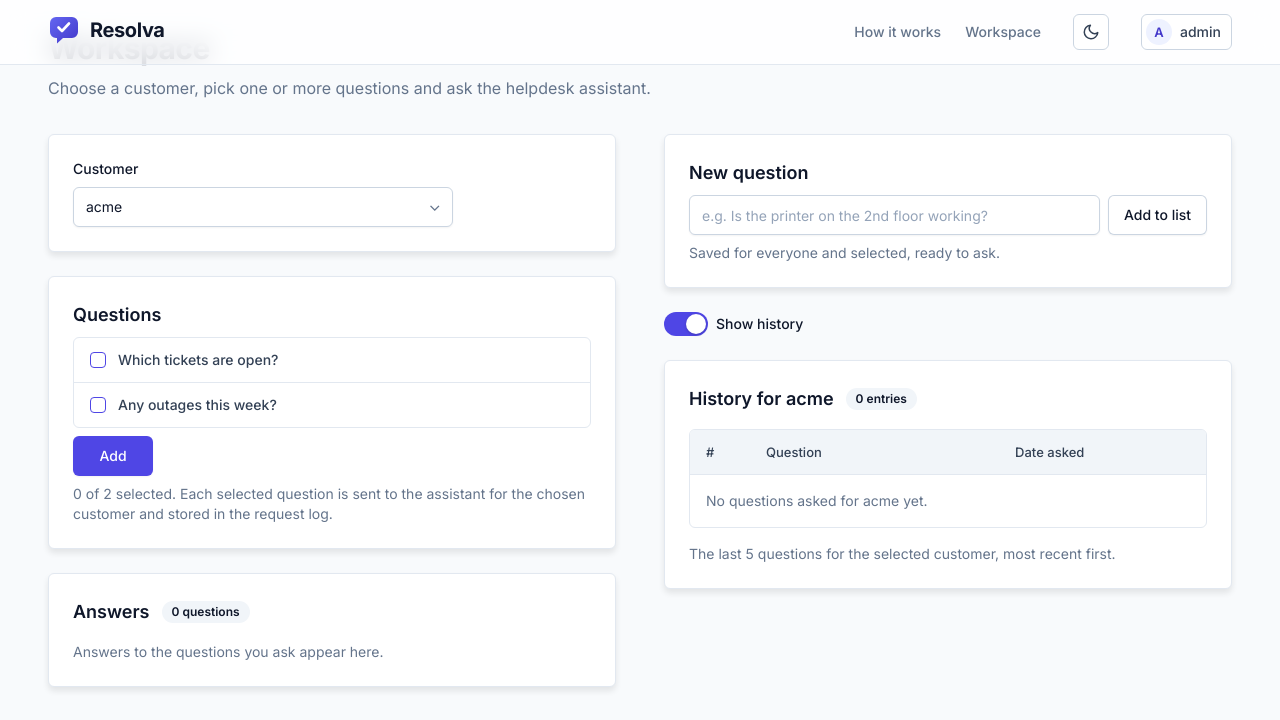
Test case: App › takes the user to sign-in when the session has expired
(page scrolled)
Click the checkbox labelled "Which tickets are open?": (98, 360) left=90, top=352, right=106, bottom=368
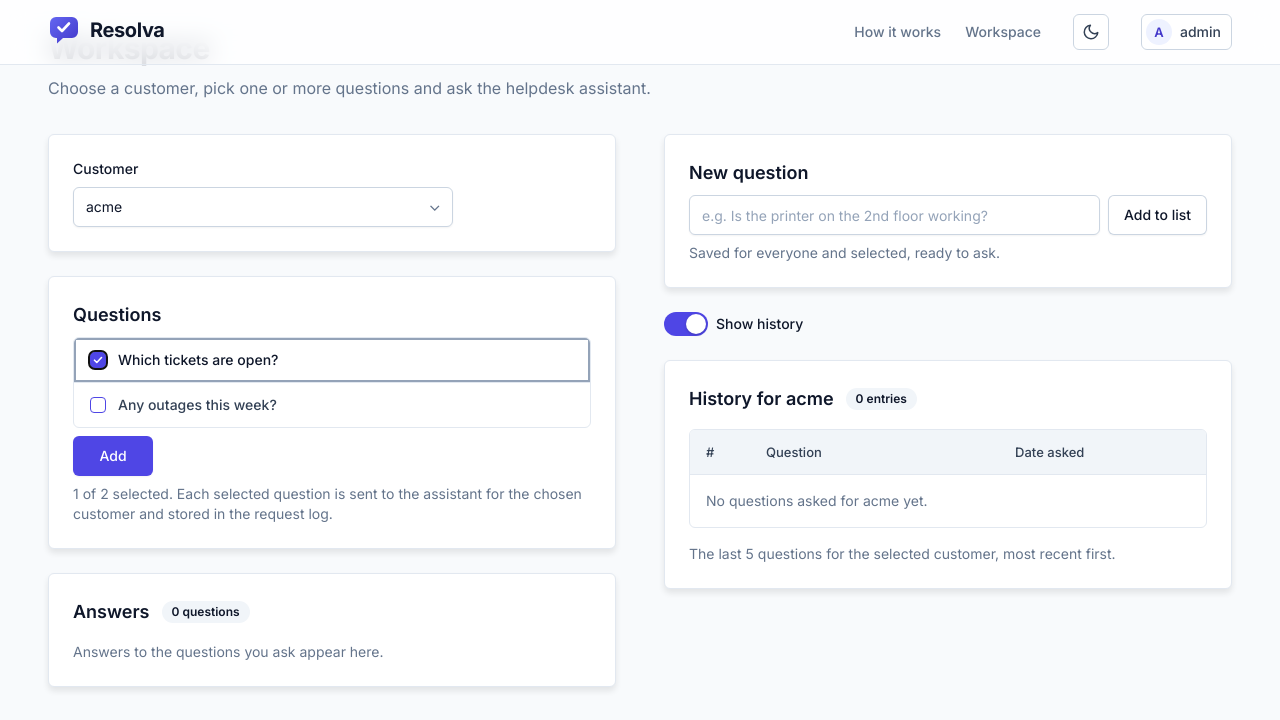
Click the button "Add": (113, 456) left=73, top=436, right=153, bottom=476
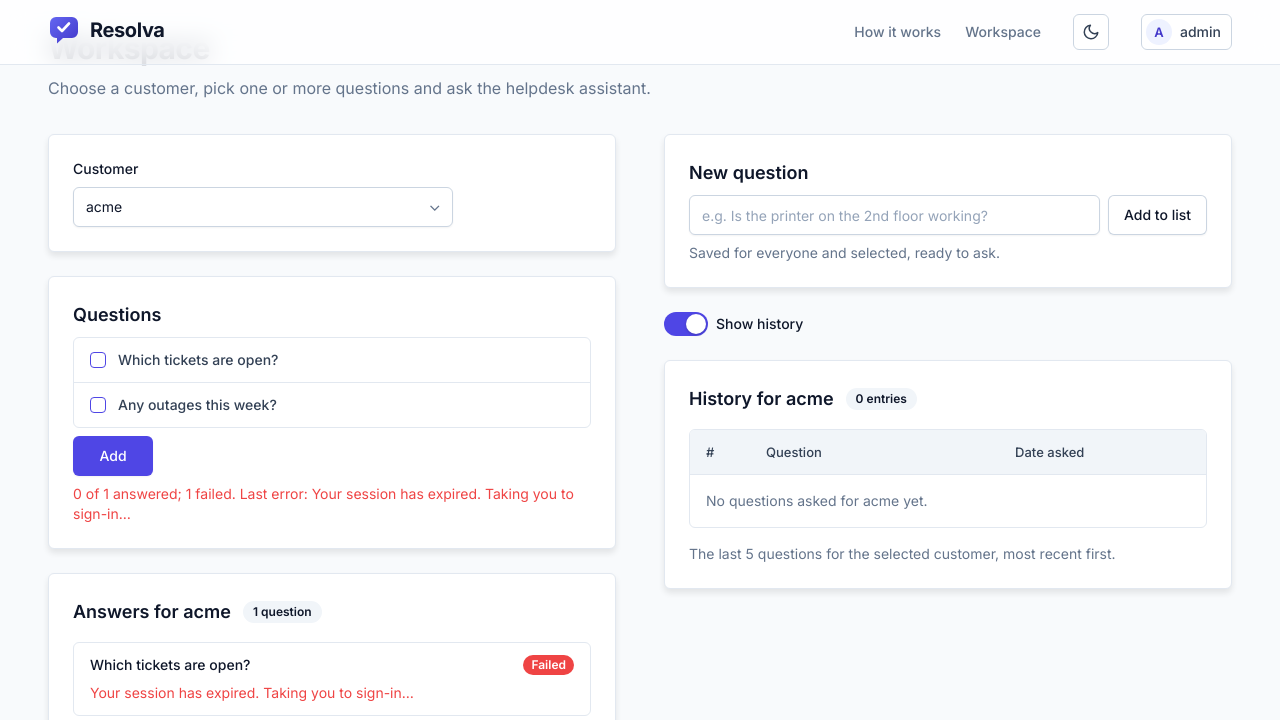
expect the message "Your session has expired. Taking you to sign-in…" is shown: met, box left=90, top=684, right=414, bottom=701
